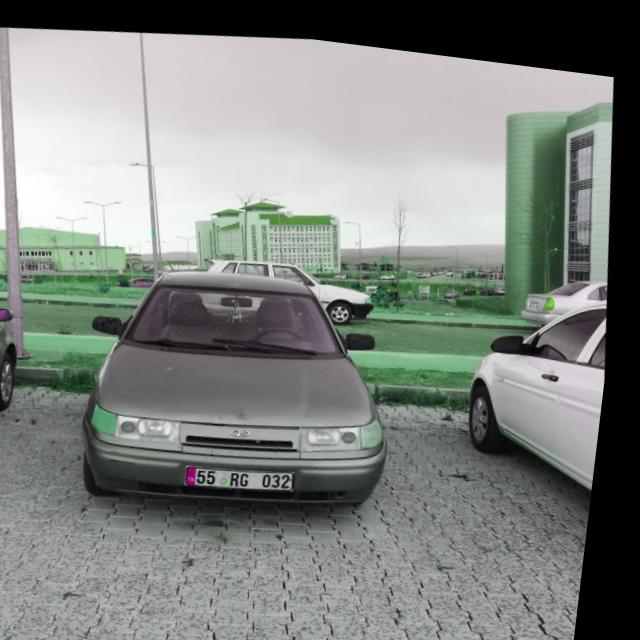license_plate: (195, 450, 307, 491)
